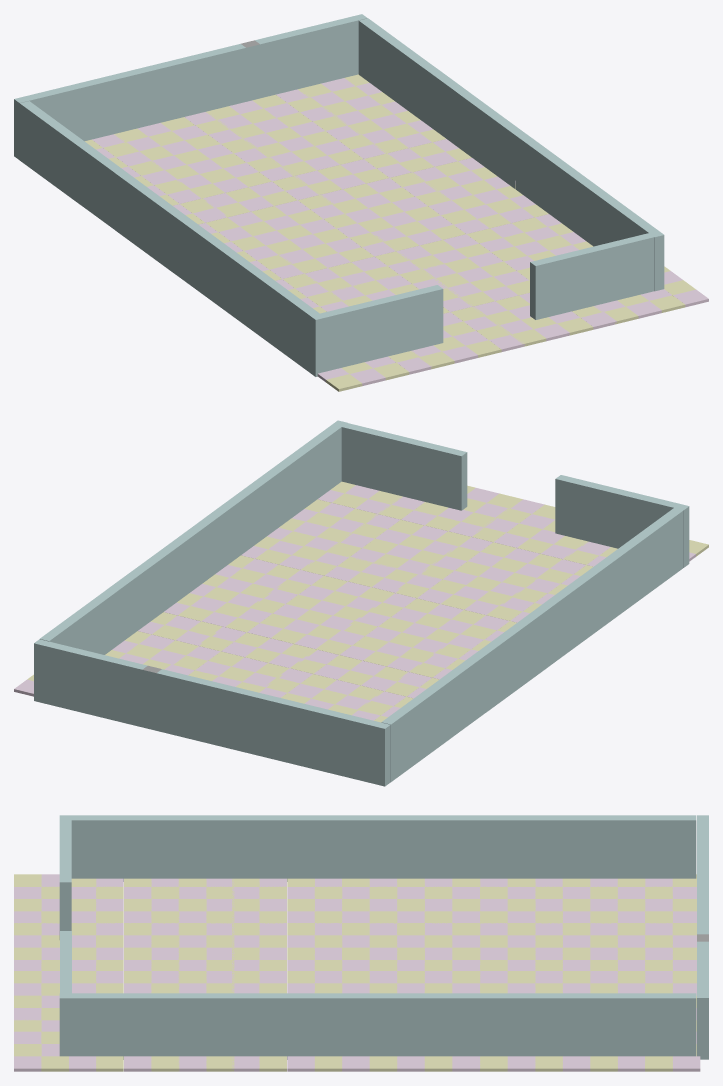
The model's file is changjing.fbx.
3 renders of one model, top to bottom at view 1: azimuth 30°, elevation 25°; view 2: azimuth 150°, elevation 25°; view 3: azimuth 270°, elevation 25°, orthographic. The views are drawn at different scales.
Visible parts, largest first — view 1: polySurface246; view 2: polySurface246; view 3: polySurface246.
Part boxes in pixels (x1,y1,x2,y2): polySurface246: (14,14,708,391); polySurface246: (14,420,708,786); polySurface246: (14,815,708,1071).
Bounding box in the file's own units: 990 × 145 × 1489.
